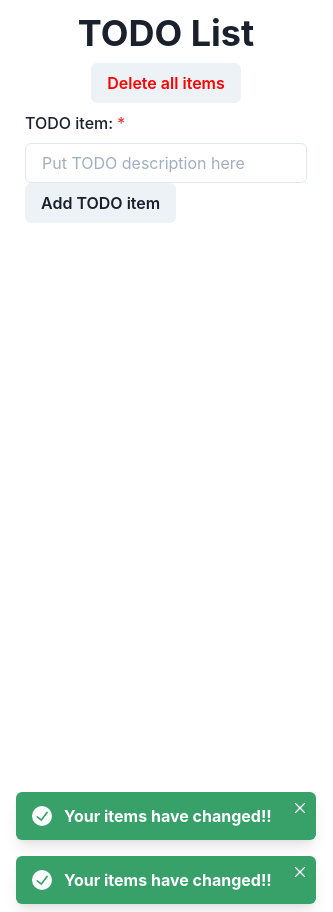
it: TodoApp › Adding todo items › Adds the specified todo item to the list and wait for component to be added
Step 1. Type "Write a better test input" into the field with placeholder "Put TODO description here" → (166, 163), box x1=25 y1=143 x2=307 y2=183
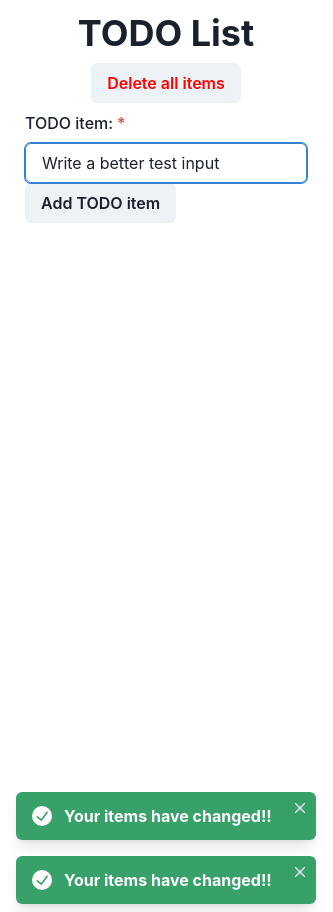
Step 2. Click the button "Add TODO item" → (101, 203), box x1=25 y1=183 x2=176 y2=223
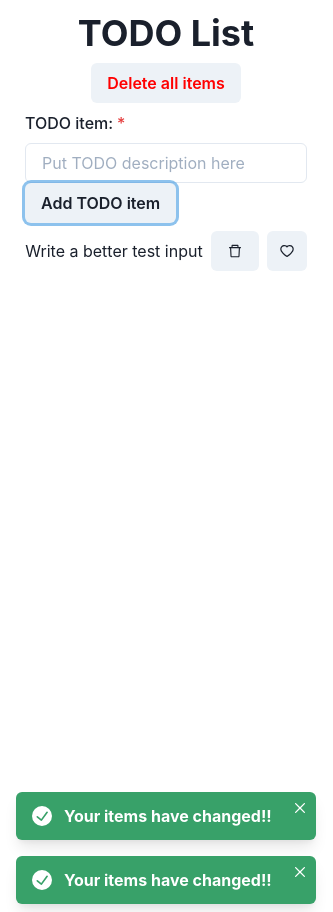
Expected: the text "Write a better test input" is shown, x1=25 y1=239 x2=203 y2=263
